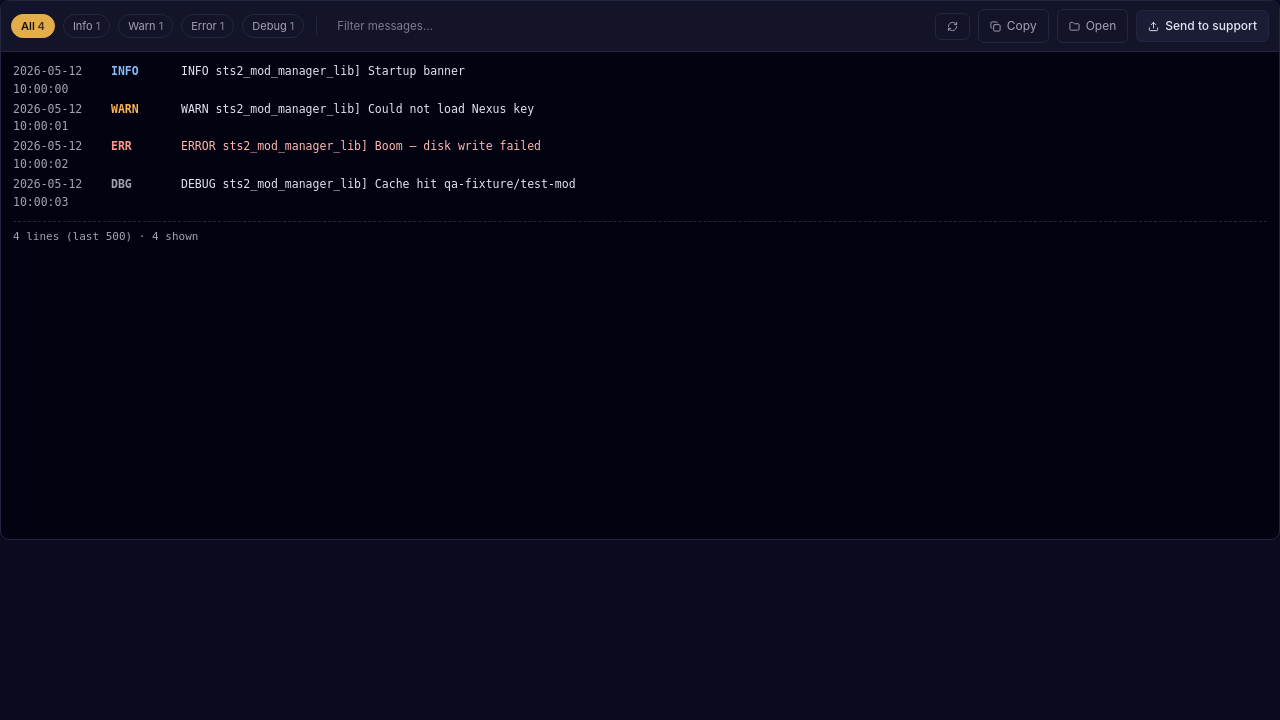
<LogsViewer> › stringifies non-Error rejection from clipboard
Expected: the text "INFO sts2_mod_manager_lib] Startup banner" is shown, [181,64,465,78]
Click the button "Copy".
click(1013, 26)  # box [978,9,1049,43]
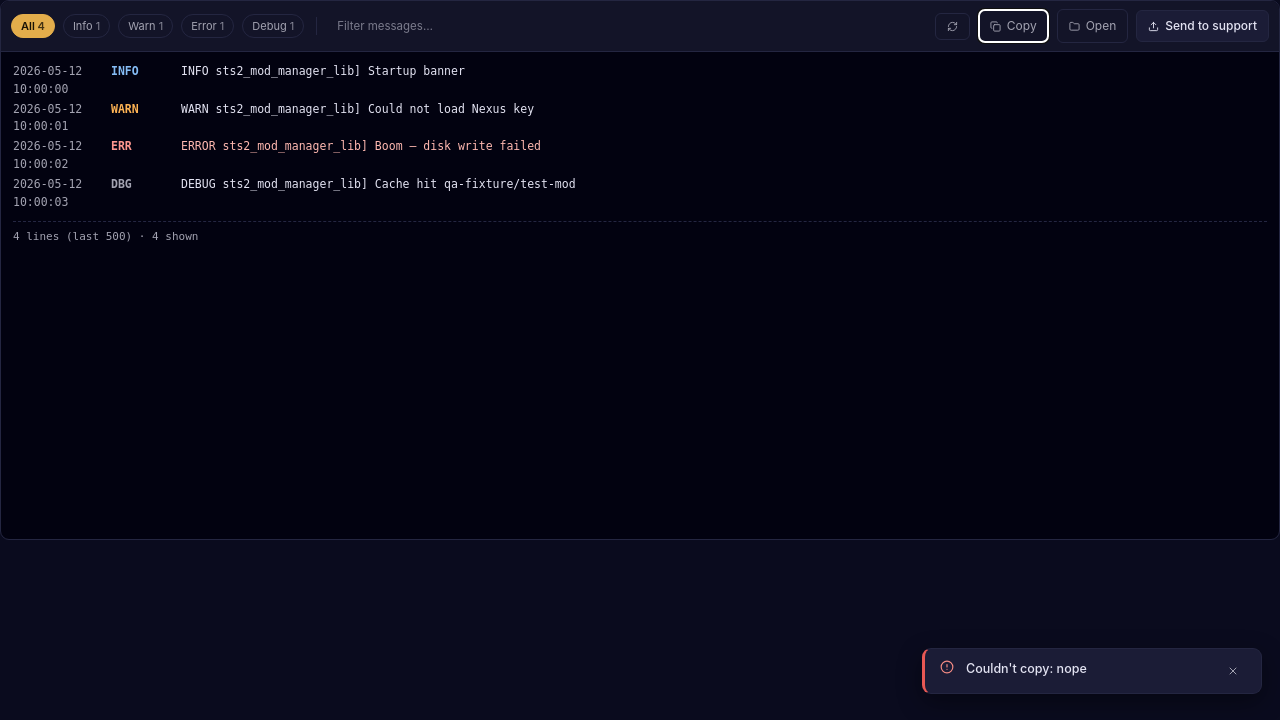
Now the text "Couldn't copy: nope" is shown, box [966,661,1087,676]
